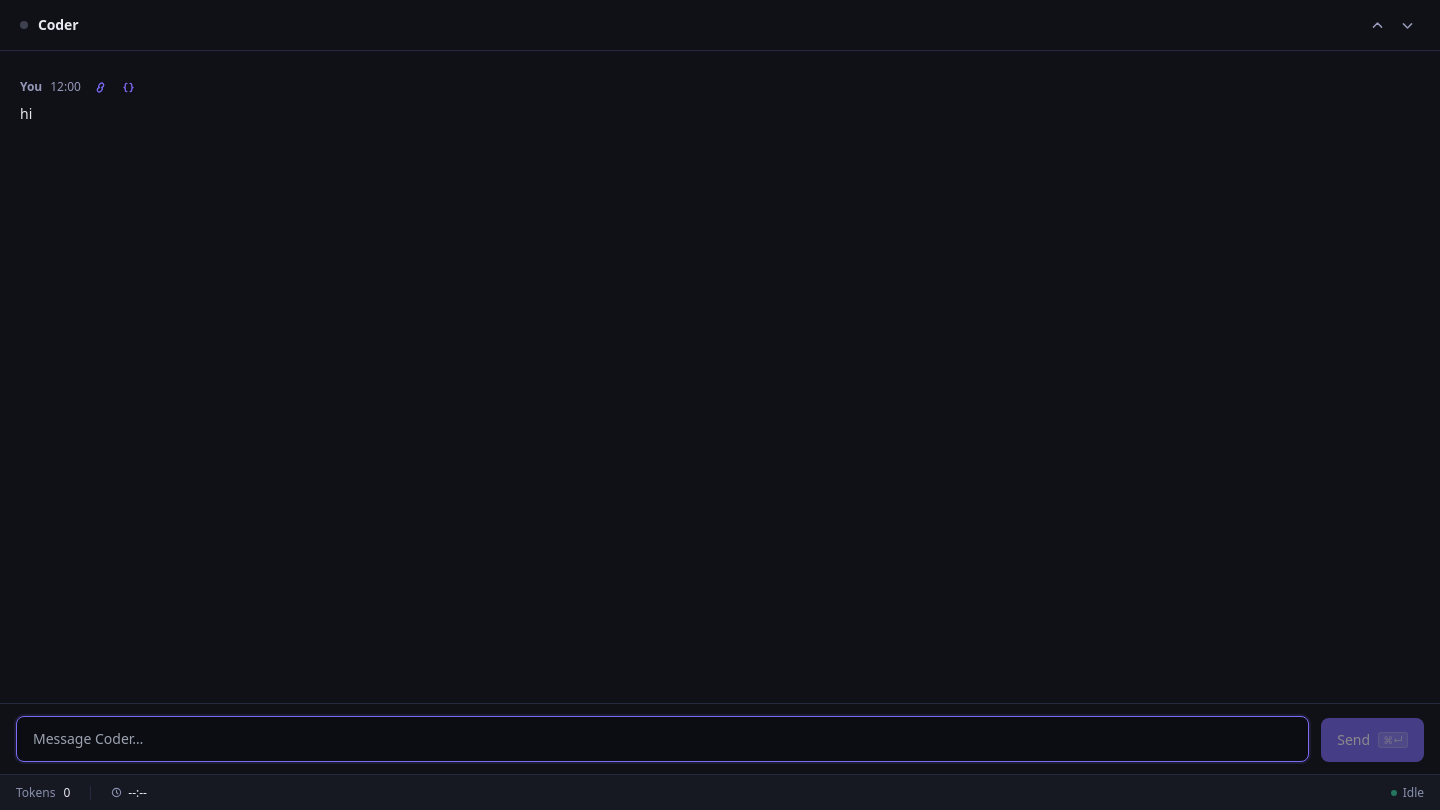
it: ChatArea raw-JSON modal › Formatted tab shows a fallback when payload is not valid JSON
Click the button named "View raw JSON (message)". click: click(129, 87)
box: x1=117 y1=75 x2=141 y2=99
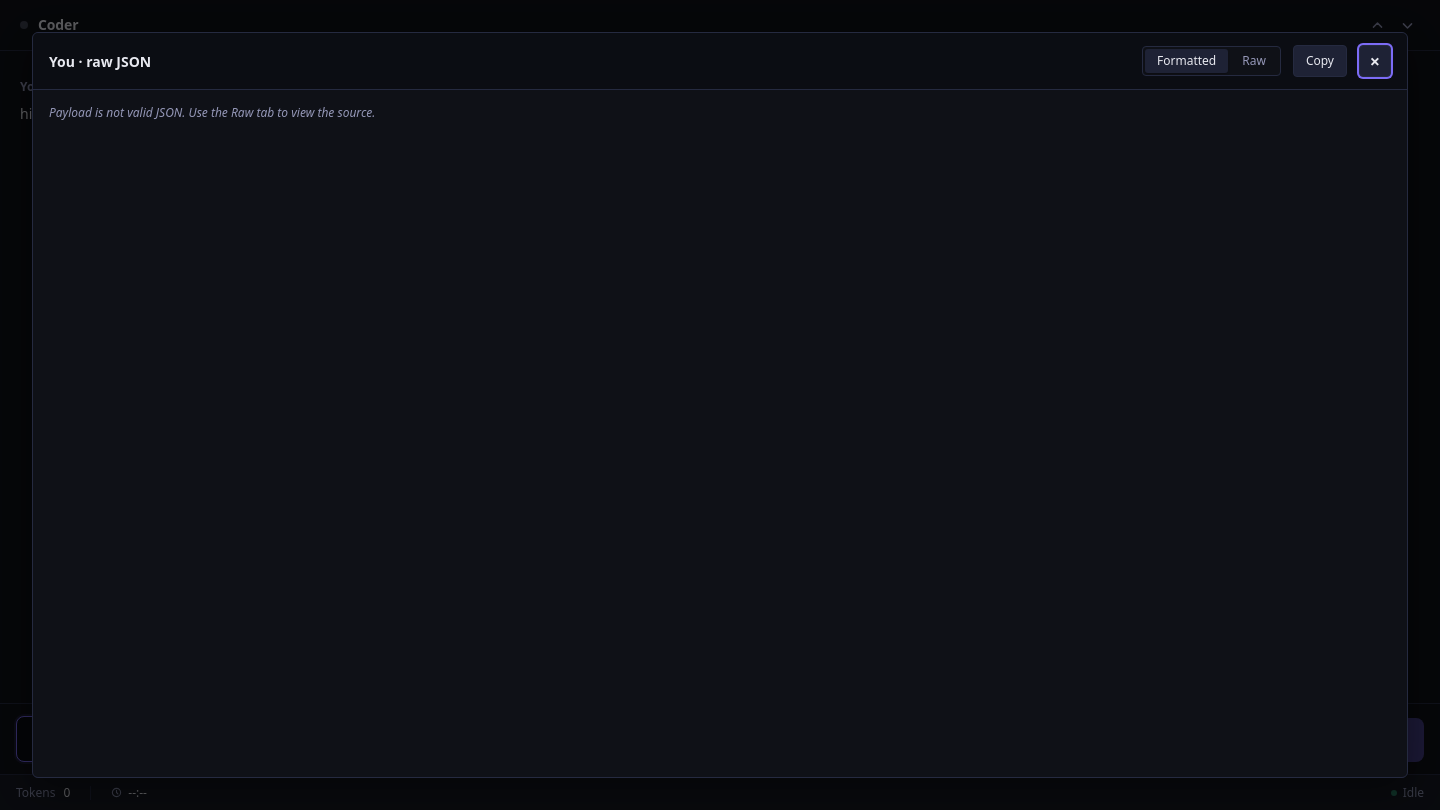
Now the text with test id "formatted-json-body" shows "not valid JSON", box x1=49 y1=104 x2=375 y2=121
